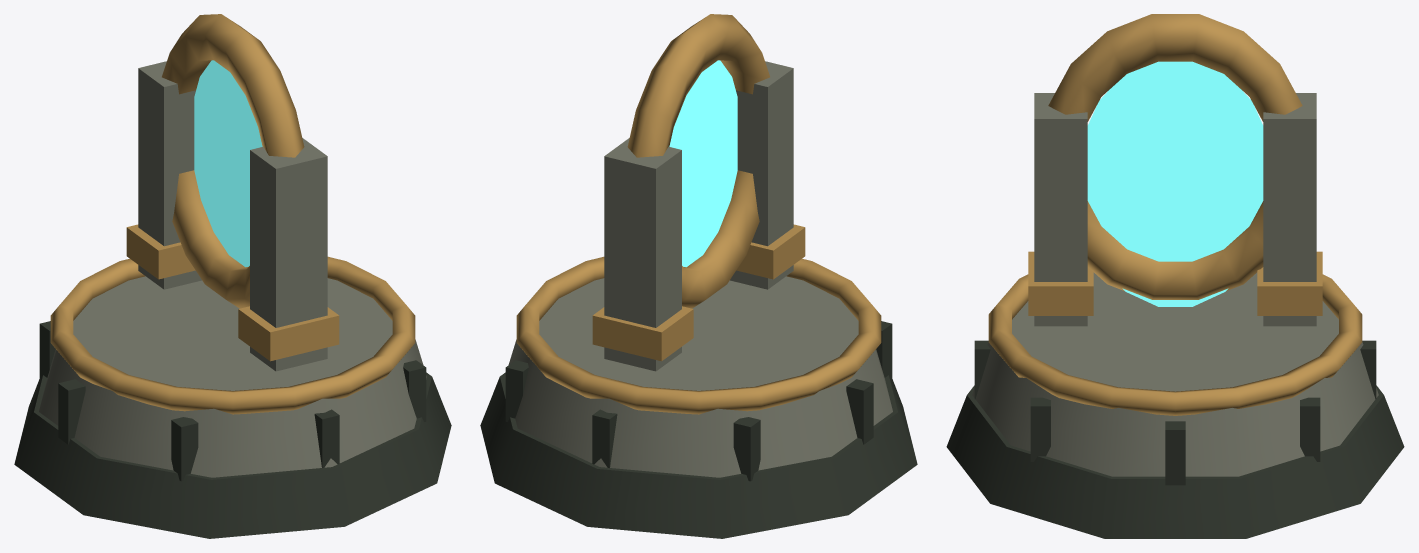
File: tower_portal_portalReturn.glb
The picture shows the model from 3 angles, left to right: view 1: azimuth 30°, elevation 25°; view 2: azimuth 150°, elevation 25°; view 3: azimuth 270°, elevation 25°; orthographic projection. The views are drawn at different scales.
Parts seen in each view (by area): view 1: stone_1, foot_0, rim_2, arch_pillar_11, arch_15, portal_surface_16, arch_pillar_13, band_12, band_14, mortar_6, mortar_7, mortar_5 (+2 smaller); view 2: stone_1, foot_0, rim_2, arch_pillar_13, arch_15, portal_surface_16, arch_pillar_11, band_14, band_12, mortar_8, mortar_7, mortar_9 (+2 smaller); view 3: stone_1, portal_surface_16, foot_0, arch_15, rim_2, arch_pillar_11, arch_pillar_13, band_12, band_14, mortar_3, mortar_4, mortar_10 (+2 smaller).
Part boxes in pixels (x1,y1,x2,y2): stone_1: [39, 276, 426, 477]; foot_0: [14, 372, 451, 538]; rim_2: [50, 256, 415, 414]; arch_pillar_11: [250, 138, 327, 371]; arch_15: [162, 14, 304, 308]; portal_surface_16: [194, 60, 262, 267]; arch_pillar_13: [138, 61, 201, 289]; band_12: [238, 306, 339, 361]; band_14: [126, 224, 195, 279]; mortar_6: [171, 417, 198, 481]; mortar_7: [58, 379, 85, 444]; mortar_5: [314, 409, 339, 467]; stone_1: [505, 276, 892, 477]; foot_0: [480, 372, 917, 538]; rim_2: [516, 256, 881, 414]; arch_pillar_13: [604, 138, 681, 371]; arch_15: [627, 14, 769, 308]; portal_surface_16: [669, 60, 737, 267]; arch_pillar_11: [730, 61, 793, 289]; band_14: [592, 306, 693, 361]; band_12: [736, 224, 805, 279]; mortar_8: [733, 417, 760, 481]; mortar_7: [846, 379, 873, 444]; mortar_9: [592, 409, 617, 467]; stone_1: [972, 272, 1378, 476]; portal_surface_16: [1087, 61, 1263, 306]; foot_0: [946, 385, 1404, 538]; arch_15: [1048, 14, 1302, 299]; rim_2: [988, 274, 1362, 415]; arch_pillar_11: [1034, 93, 1087, 326]; arch_pillar_13: [1263, 93, 1316, 326]; band_12: [1028, 251, 1093, 315]; band_14: [1257, 251, 1322, 315]; mortar_3: [1165, 421, 1185, 485]; mortar_4: [1030, 397, 1050, 461]; mortar_10: [1300, 397, 1320, 461].
Size of the model in its own units: 0.5326 by 0.5841 by 0.56.
